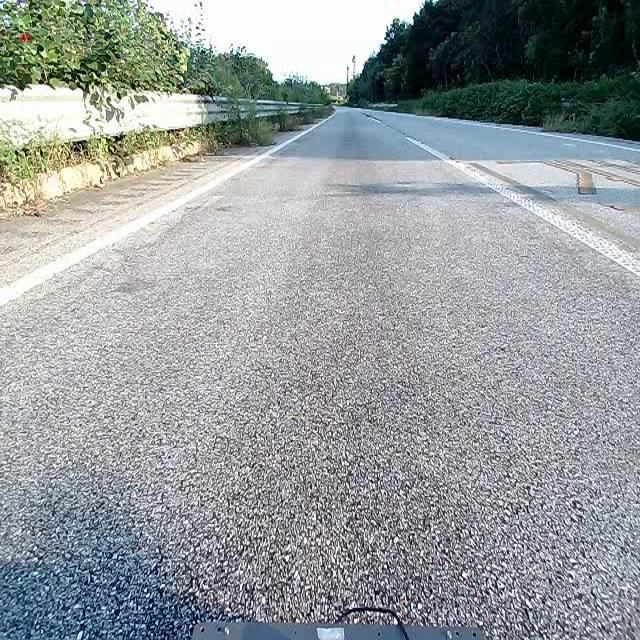Lane: (0, 108, 336, 308), (0, 118, 329, 307), (403, 131, 640, 288), (403, 136, 639, 277)
